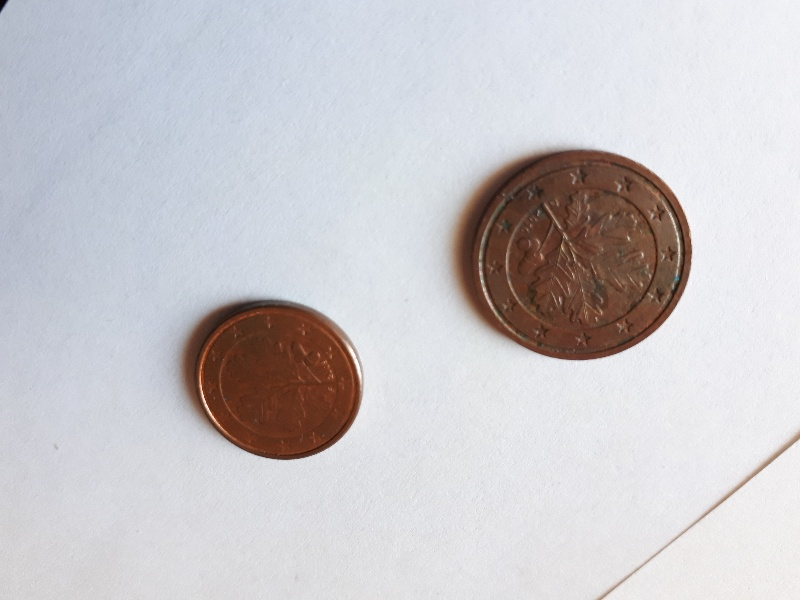1 cent: (189, 295, 374, 463)
2 cent: (469, 146, 704, 366)
